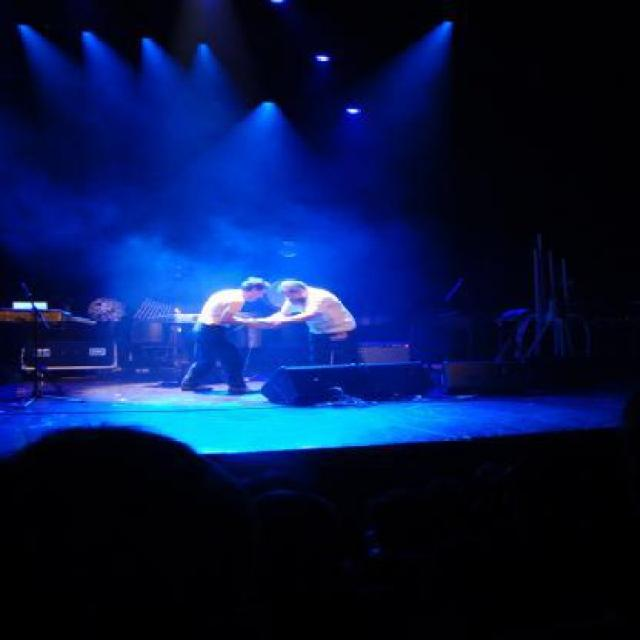Person: (180, 277, 271, 395), (262, 281, 360, 362)
